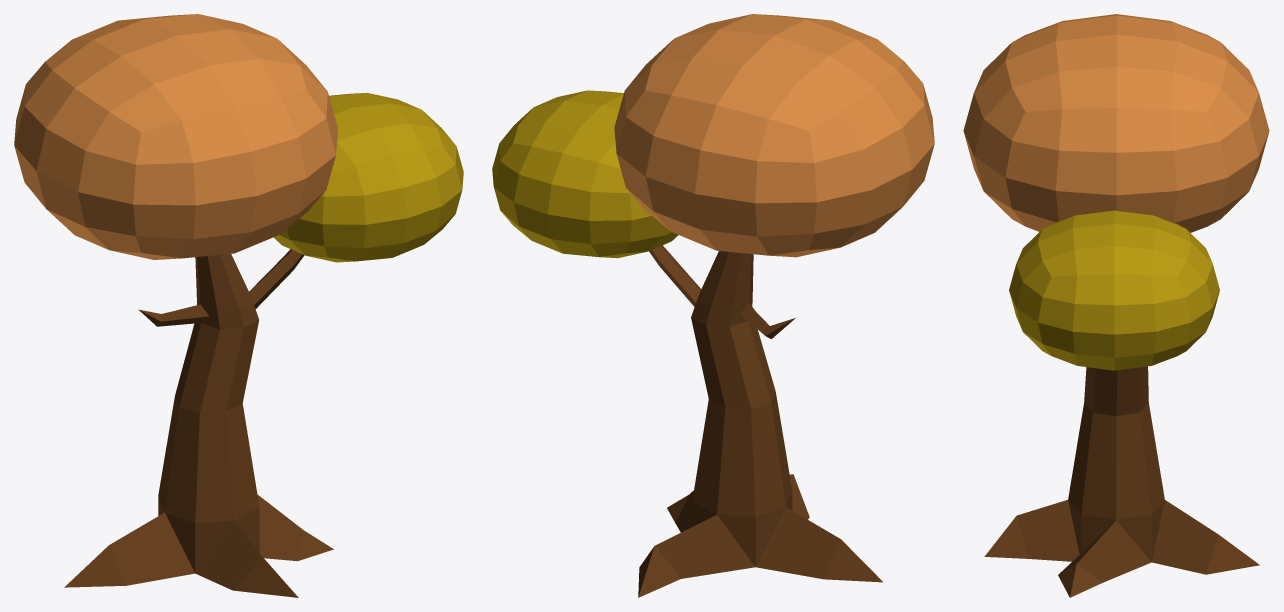
Rendered from tree_3.fbx.
3 renders of one model, left to right at view 1: azimuth 30°, elevation 25°; view 2: azimuth 150°, elevation 25°; view 3: azimuth 270°, elevation 25°, orthographic. The views are drawn at different scales.
Visible parts, largest first — view 1: Cube.001, Cube, Cube.004; view 2: Cube.001, Cube, Cube.004; view 3: Cube.001, Cube.004, Cube.
Part boxes in pixels (bbox=[...]): Cube.001: bbox=[14, 14, 337, 259]; Cube: bbox=[64, 249, 333, 597]; Cube.004: bbox=[273, 92, 463, 262]; Cube.001: bbox=[614, 14, 934, 257]; Cube: bbox=[638, 245, 882, 597]; Cube.004: bbox=[492, 90, 678, 258]; Cube.001: bbox=[963, 14, 1269, 232]; Cube.004: bbox=[1009, 210, 1219, 370]; Cube: bbox=[984, 366, 1259, 597].
Size of the model in its own units: 853 by 1048 by 580.
